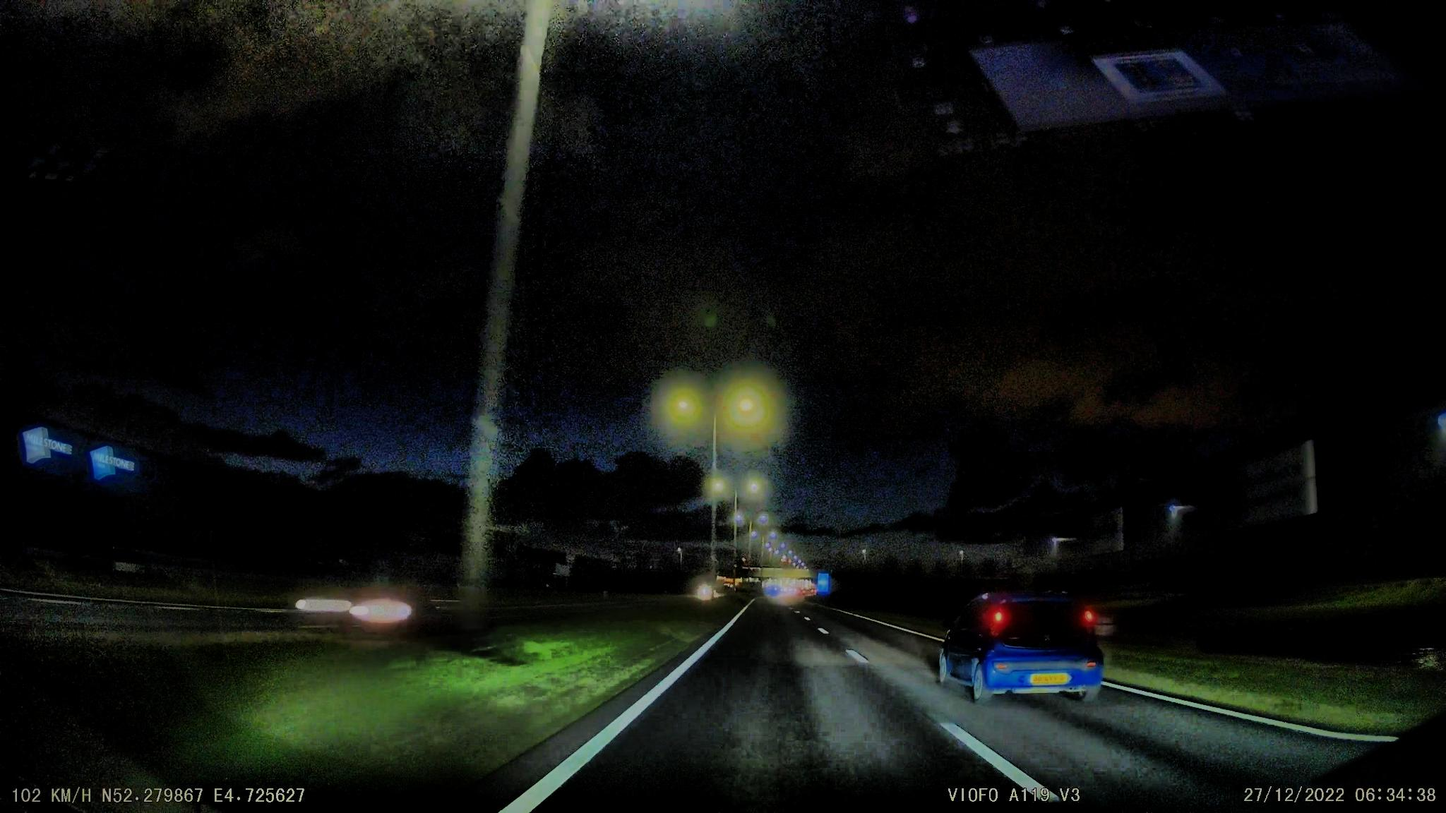Roads: (522, 597, 1446, 813)
